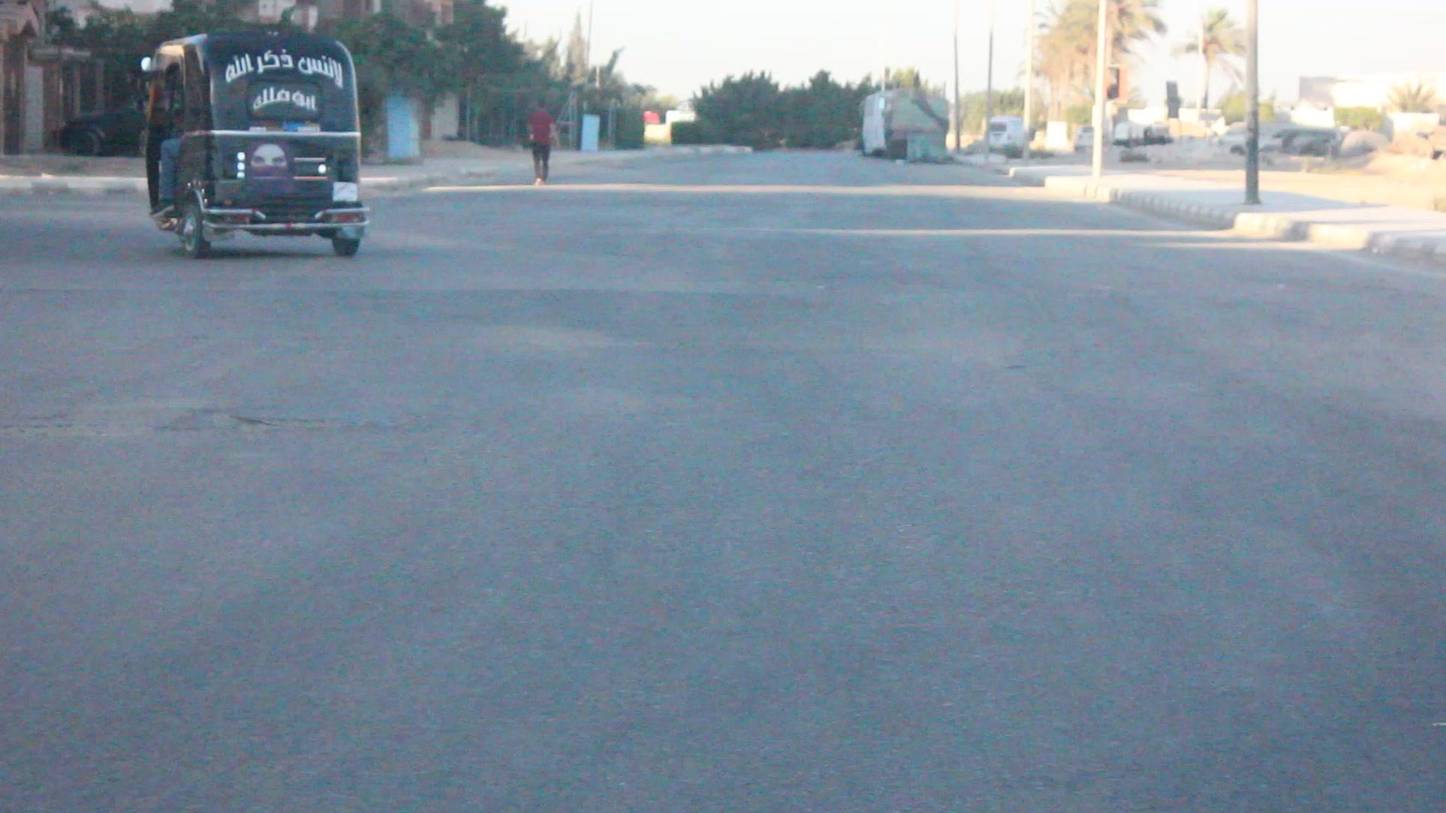Bump: (0, 263, 1446, 348)
Pothole: (147, 386, 418, 455)
